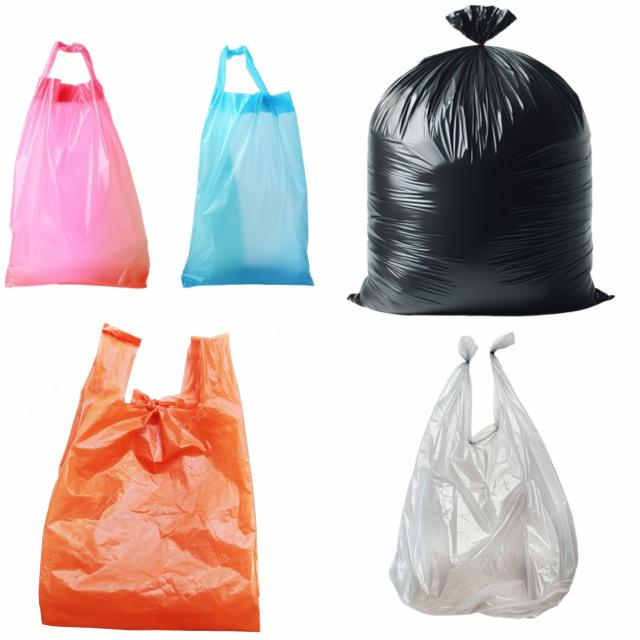Single-layer Plastic: (351, 6, 610, 314), (39, 325, 259, 631), (390, 334, 578, 618), (5, 41, 150, 288), (181, 46, 312, 287)
